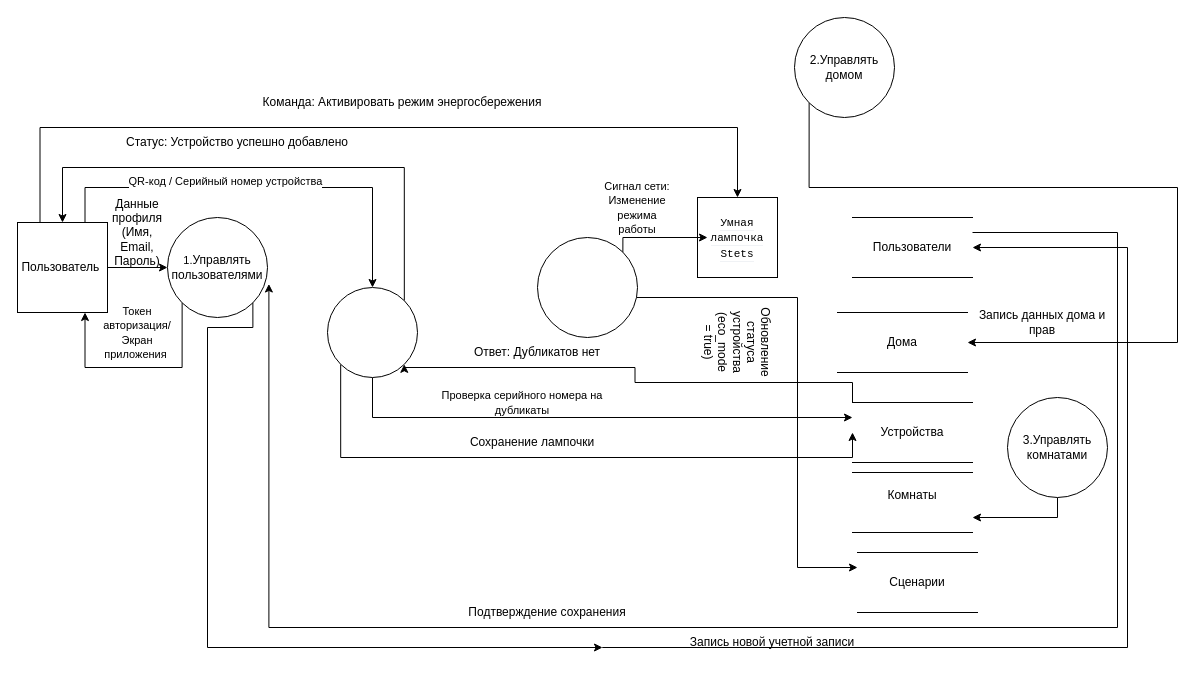
Image size: 1203x675. Some labels were removed from this diagram. The shapes that lost their labels are listed below. From the top down, each one's box as (x1, y1, x2, y2) in pixels, then its label:
(536, 236, 638, 338): 5.Управлять сценариями
(326, 286, 418, 378): 4.Управлять устройствами
